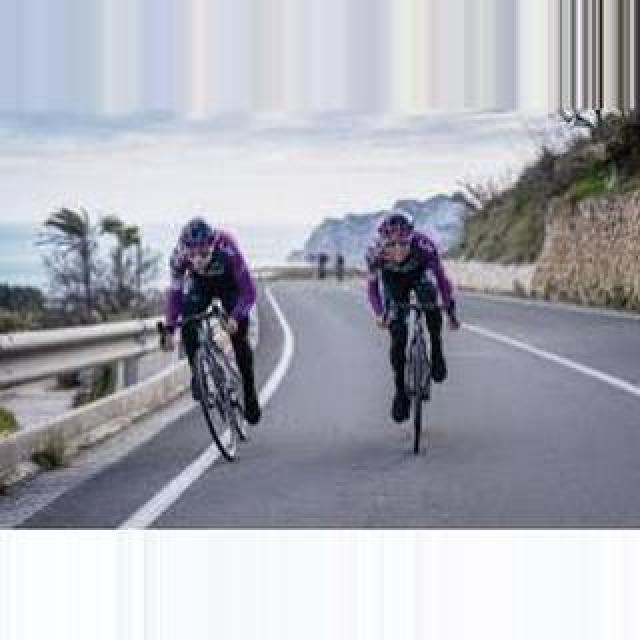MC-Bike: (160, 216, 260, 434), (364, 208, 458, 394)
Person: (179, 305, 249, 461), (386, 292, 442, 454)
